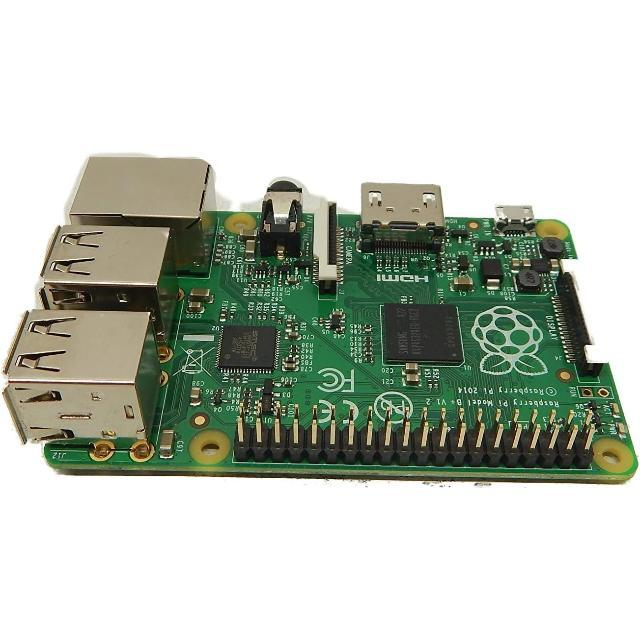Raspberry Pi 1 B-: (6, 157, 637, 482)
